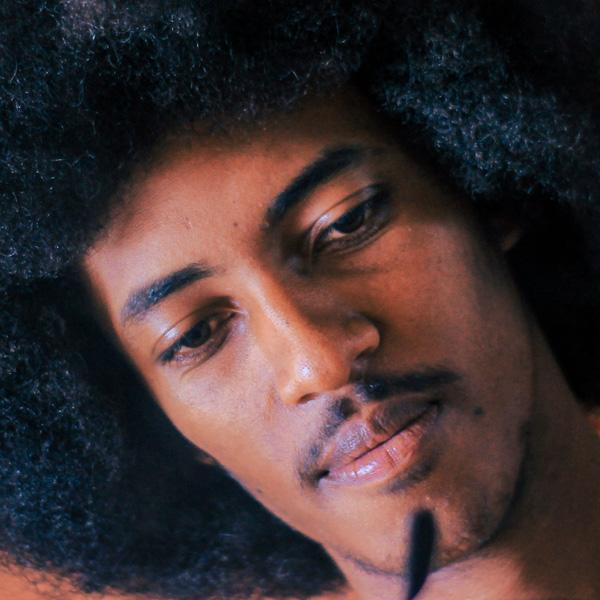Eyes: (301, 174, 400, 271), (149, 289, 245, 379)
